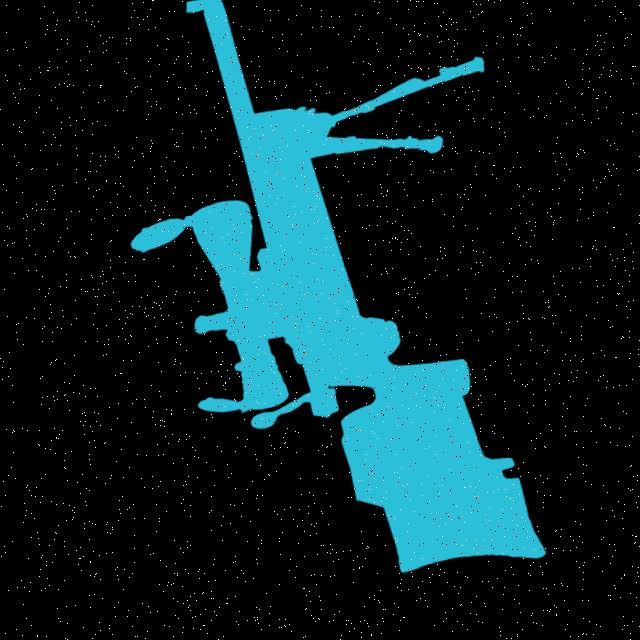firearm: (84, 0, 590, 630)
